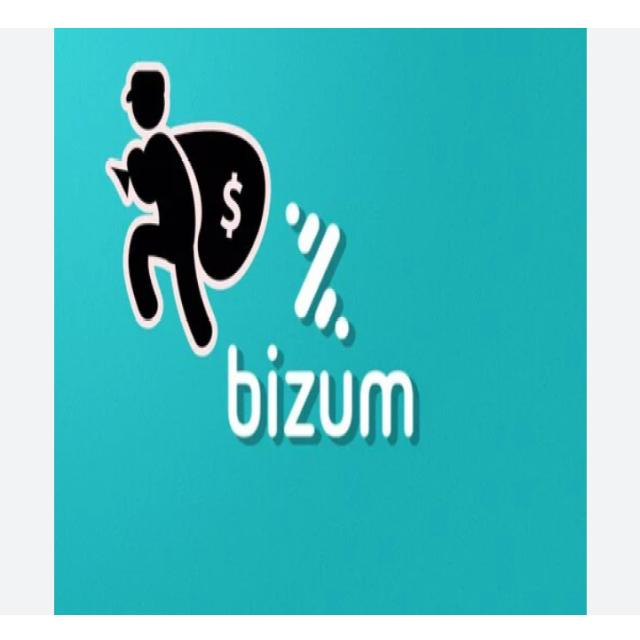bizum: (284, 201, 350, 341)
bizum_txt: (226, 342, 416, 442)
